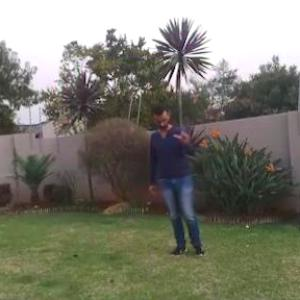land_hand: (170, 120, 190, 147)
